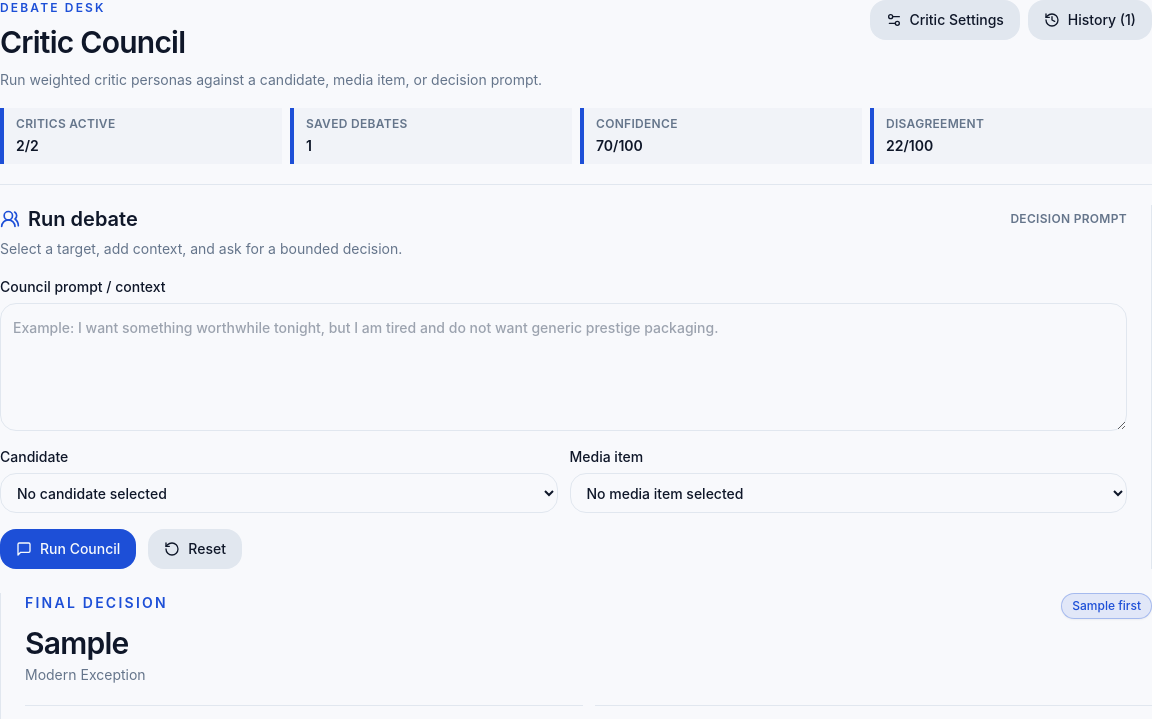
Test: CriticCouncilPage › renders prompt, selectors, signal strip, settings dialog, opinions, and history dialog
Check: the heading "Critic Council" is shown, box x1=0 y1=24 x2=185 y2=60
Check: the text box labelled "Council prompt / context" is shown, box x1=0 y1=303 x2=1127 y2=431
Click the button "Critic Settings". click: (945,20)
box: x1=870 y1=0 x2=1020 y2=40
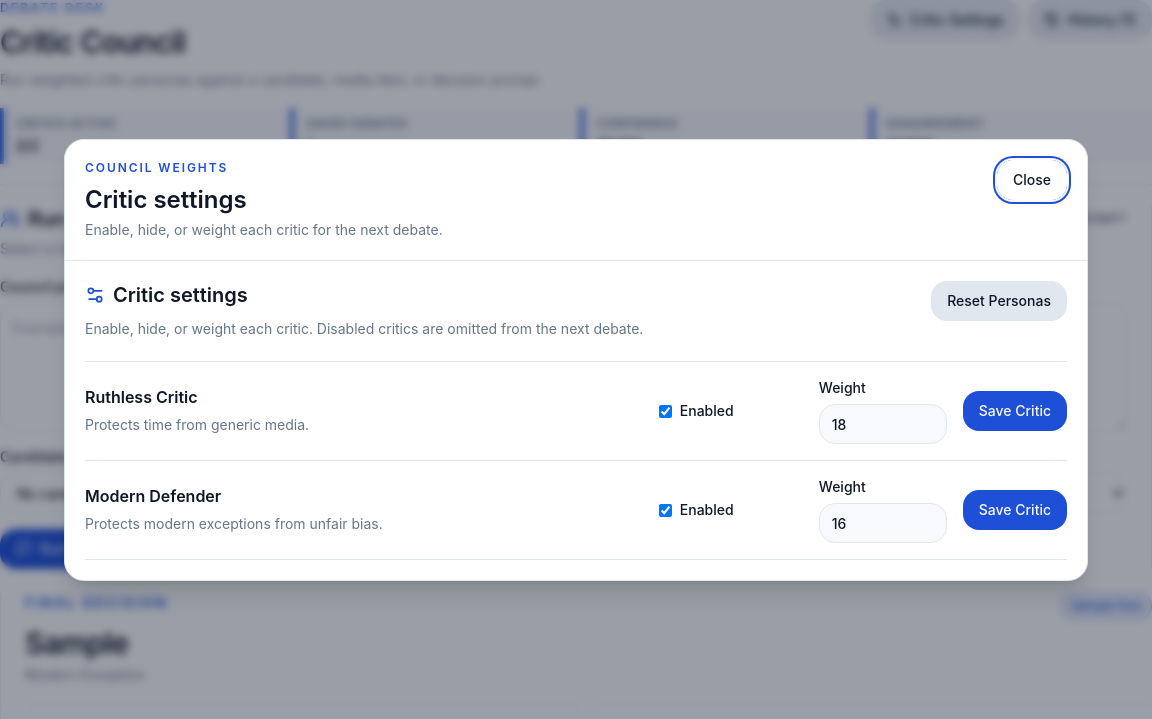
Check: the heading "Ruthless Critic" is shown, box x1=85 y1=387 x2=198 y2=407
Check: the heading "Modern Defender" is shown, box x1=85 y1=486 x2=221 y2=506
Click the button "Close". click: (1032,180)
box: x1=997 y1=160 x2=1067 y2=200
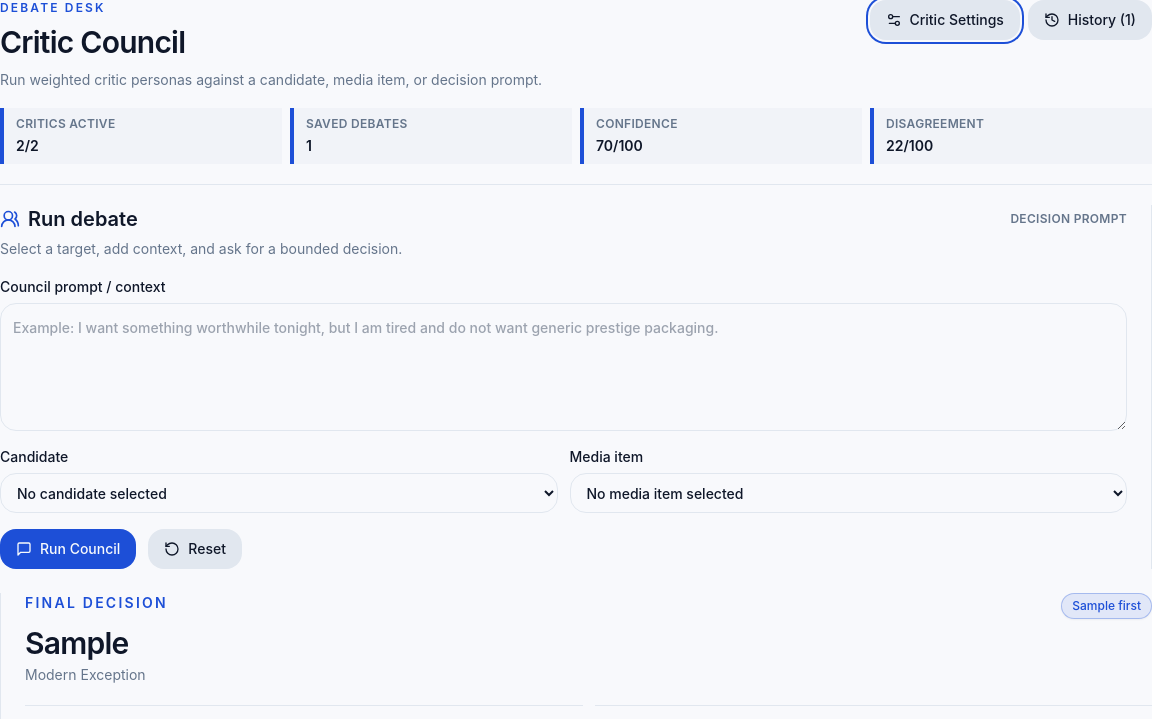
Click the button "History (1)". click: (1090,20)
box: x1=1028 y1=0 x2=1151 y2=40
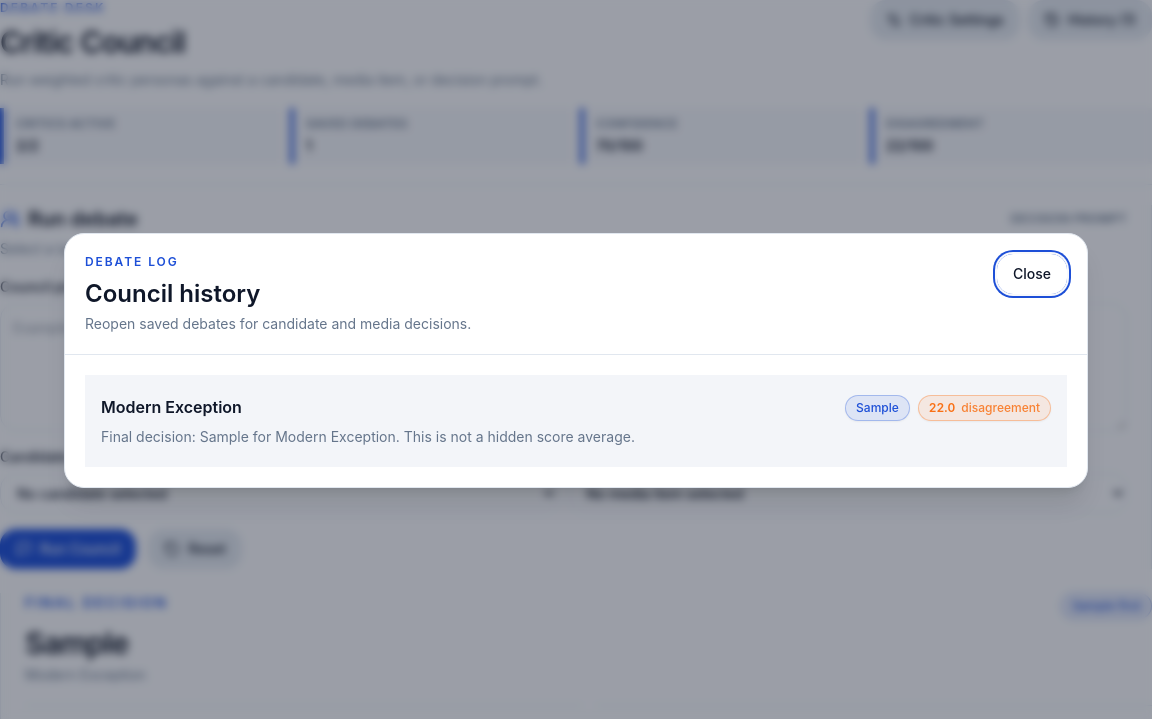
Check: the text "Modern Exception" is shown, box x1=101 y1=396 x2=242 y2=416
